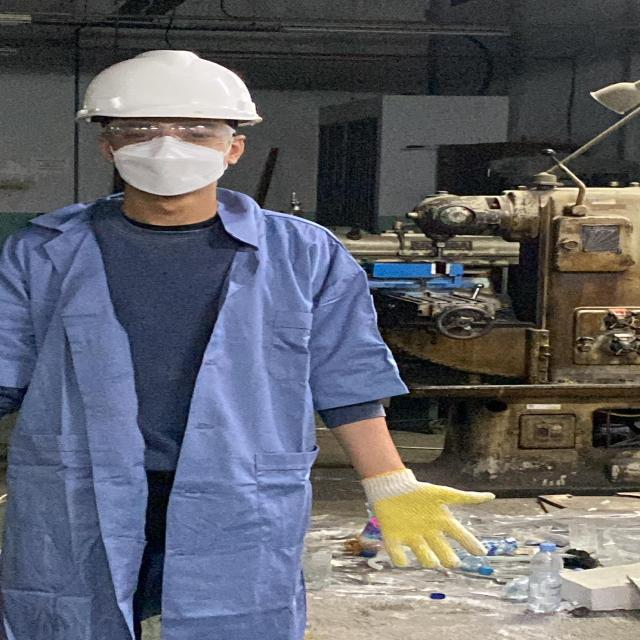glasses: (93, 116, 244, 147)
